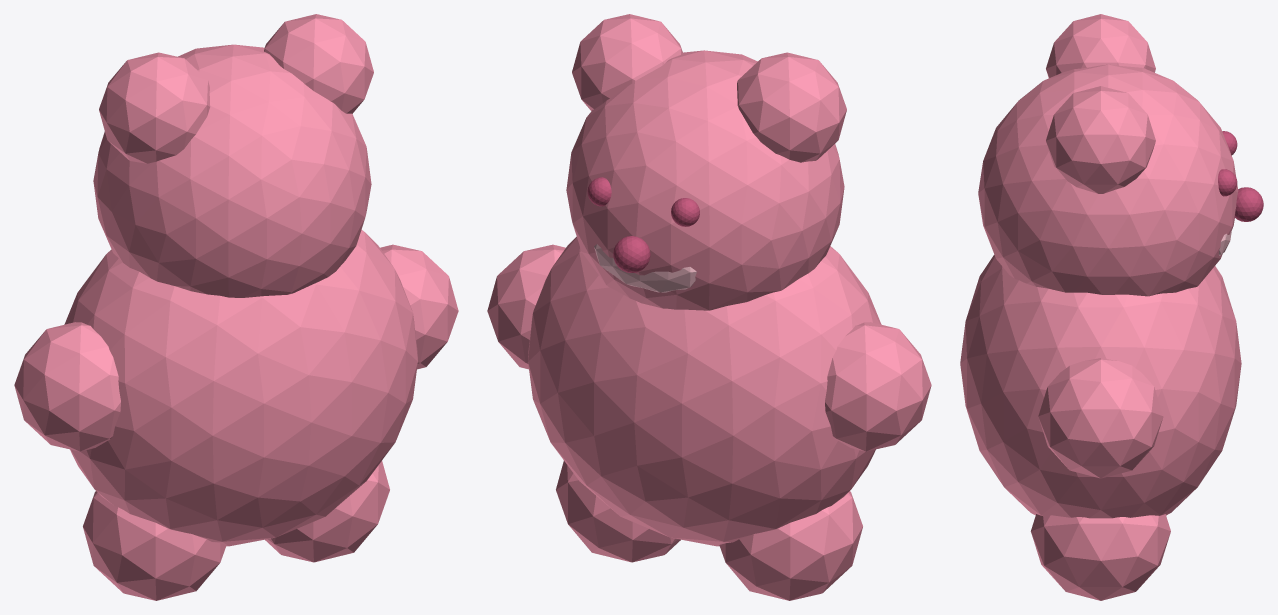
Rendered from treasure_bear.glb.
3 views of the same model, side by side, from view 1: azimuth 30°, elevation 25°; view 2: azimuth 150°, elevation 25°; view 3: azimuth 270°, elevation 25° (orthographic). The views are drawn at different scales.
Parts seen in each view (by area): view 1: Body, Head, Arm-0.67, Ear-0.34, Leg-0.34, Ear0.34, Leg0.34, Arm0.67; view 2: Body, Head, Arm-0.67, Leg-0.34, Ear-0.34, Ear0.34, Leg0.34, Arm0.67, Muzzle, Nose, Eye-0.18; view 3: Body, Head, Arm0.67, Leg0.34, Ear0.34, Ear-0.34, Nose, Eye0.18.
Part boxes in pixels (<box>): Body: <box>64,229,417,546</box>; Head: <box>93,44,371,297</box>; Arm-0.67: <box>14,322,120,451</box>; Ear-0.34: <box>99,52,210,163</box>; Leg-0.34: <box>83,491,226,600</box>; Ear0.34: <box>264,14,373,113</box>; Leg0.34: <box>265,461,389,562</box>; Arm0.67: <box>380,244,458,369</box>; Body: <box>528,236,881,546</box>; Head: <box>566,50,844,310</box>; Arm-0.67: <box>825,322,931,451</box>; Leg-0.34: <box>719,491,862,600</box>; Ear-0.34: <box>737,52,846,162</box>; Ear0.34: <box>572,14,682,110</box>; Leg0.34: <box>556,461,680,562</box>; Arm0.67: <box>487,244,565,369</box>; Muzzle: <box>594,244,696,292</box>; Nose: <box>613,236,650,272</box>; Eye-0.18: <box>671,198,699,226</box>; Body: <box>960,255,1241,518</box>; Head: <box>978,64,1238,296</box>; Arm0.67: <box>1038,358,1163,478</box>; Leg0.34: <box>1030,514,1170,600</box>; Ear0.34: <box>1046,86,1155,193</box>; Ear-0.34: <box>1046,14,1155,77</box>; Nose: <box>1234,187,1263,221</box>; Eye0.18: <box>1218,169,1237,196</box>.
Size of the model in its own units: 1.84 by 2.22 by 1.21.
